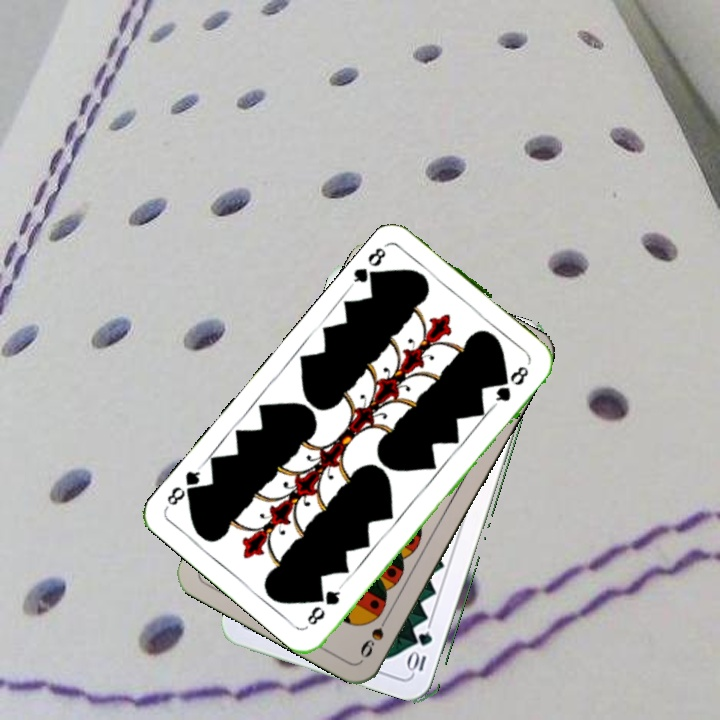G10: (407, 627, 435, 676)
G8: (349, 239, 392, 289), (303, 581, 346, 628)
S9: (356, 608, 394, 661)
